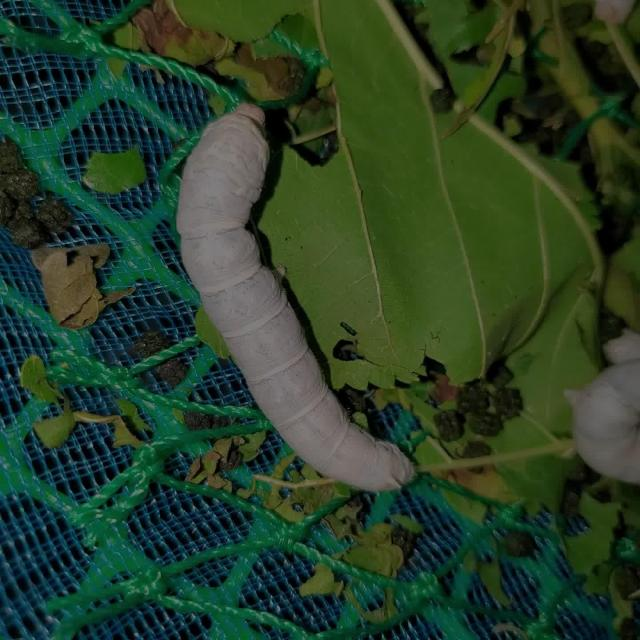Healthy: (154, 61, 419, 539)
